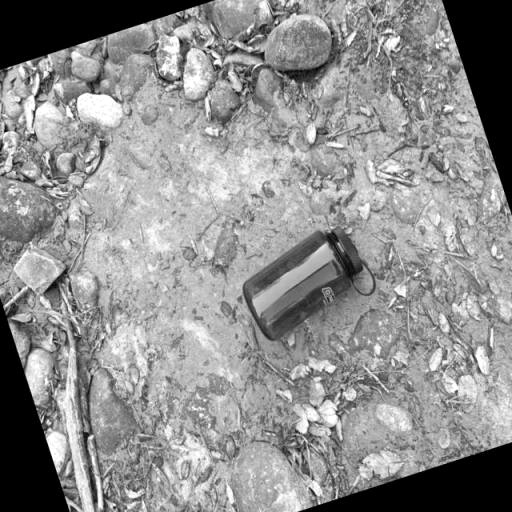bottle: (231, 218, 384, 346)
